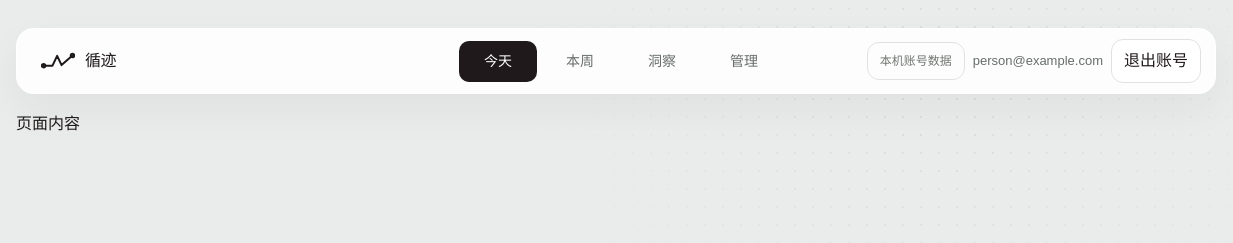
Test: AppShell › shows the safe failure returned by sign-out without losing retry access
Click the button "退出账号" at (1156, 61), box [1111,39,1201,83]
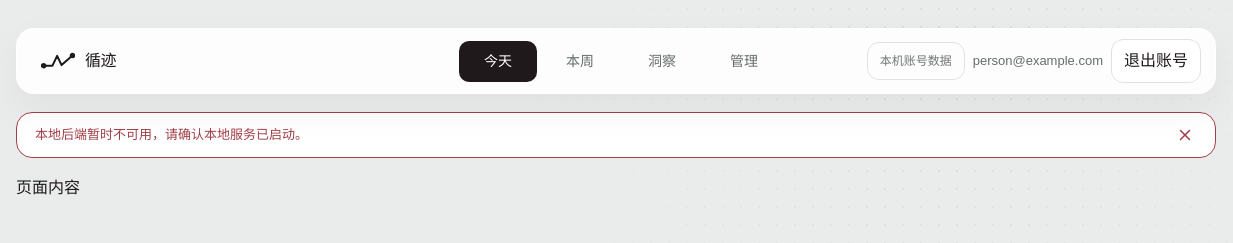
Check: the message reads "本地后端暂时不可用，请确认本地服务已启动。", box [35,127,308,142]
